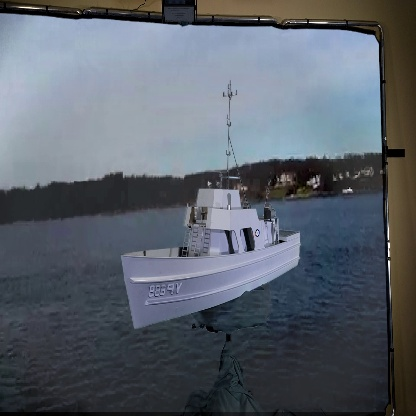YP689: (120, 75, 303, 331)
